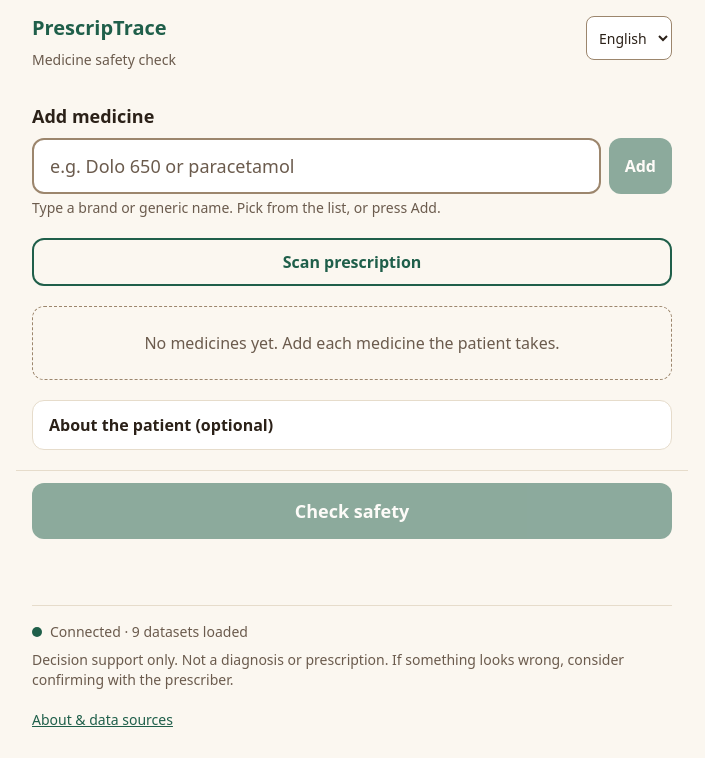
Test: adding medicines › asks to confirm an unclear typed name and blocks the check until confirmed
In the dropdown labelled "Add medicine": (316, 166) 32,138 -> 601,194, type "amlodipin"
Then press Enter
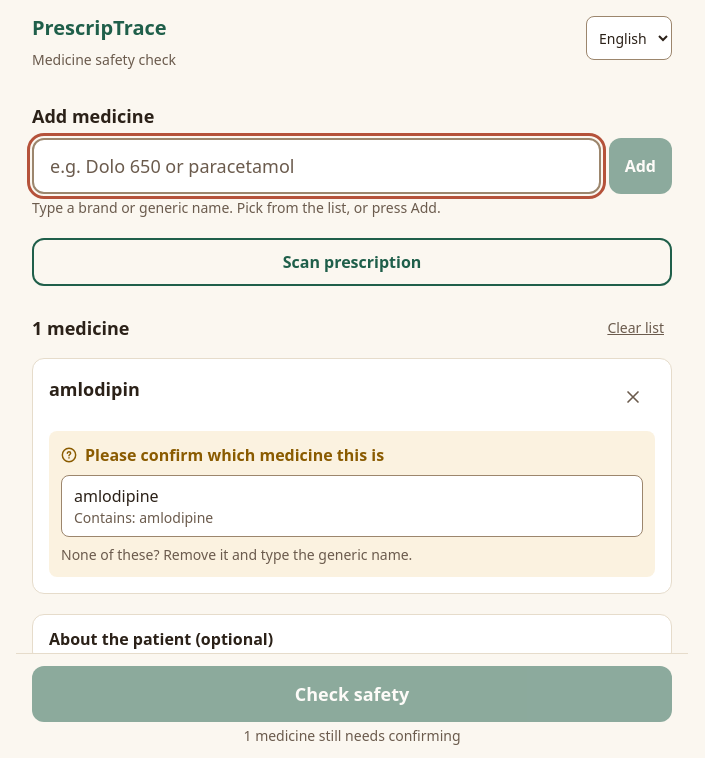
Expected: the button "Check safety" is disabled, 32,666 -> 672,722
Expected: the text "Please confirm which medicine this is" is shown, 61,444 -> 384,466
Expected: the text "1 medicine still needs confirming" is shown, 244,726 -> 460,745
Click the button "amlodipine Contains: amlodipine": (116, 496) 61,475 -> 643,537
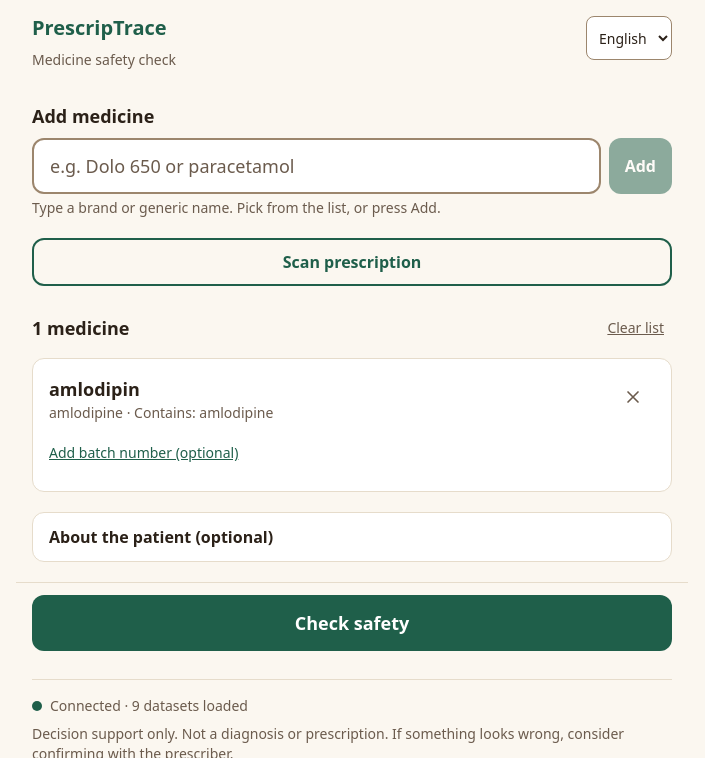
Expected: the button "Check safety" is enabled, 32,595 -> 672,651
